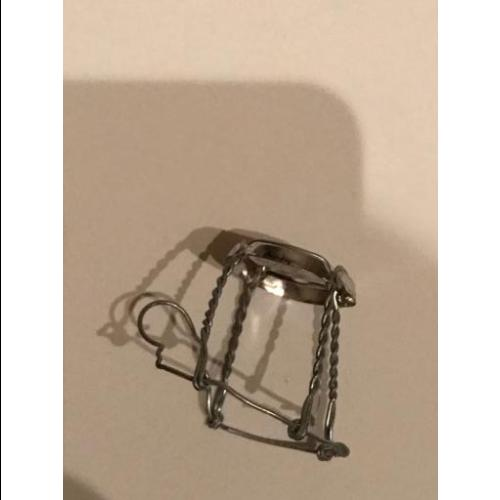metal: (234, 238, 358, 305)
